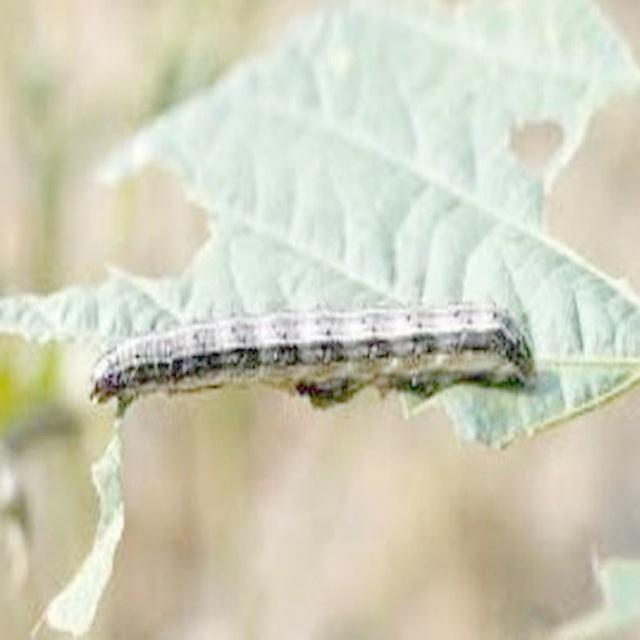gusano_cogollero: (87, 299, 536, 409)
